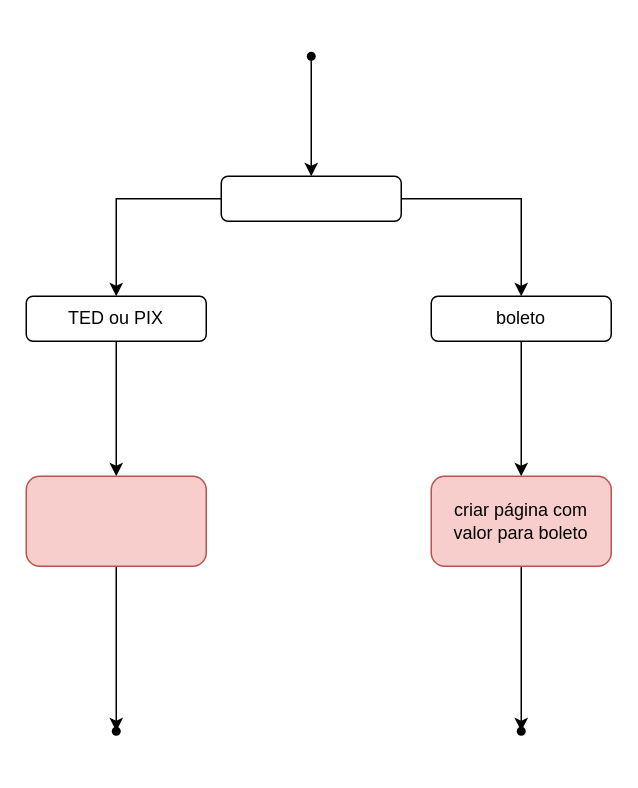
This 638x788 diagram has some shape labels left out. The shapes that lost their labels are listed below. From the top down, each one's centre as x and y in pixels, then its label:
[310,198]: página como sepositar
[115,520]: criar página com dados para depósito
